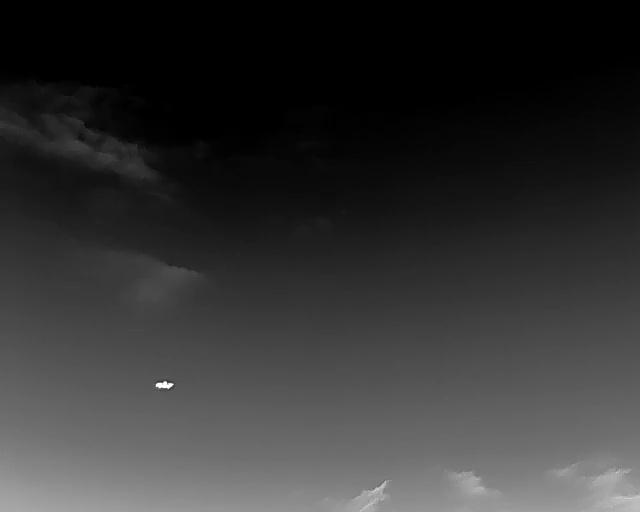fpv-drone: (155, 380, 174, 391)
